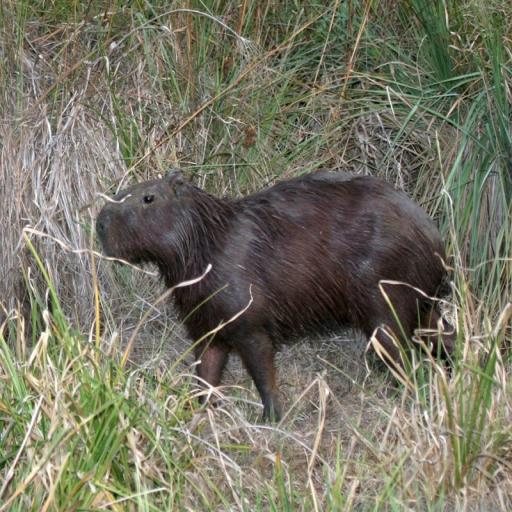capybara: (97, 172, 444, 418)
